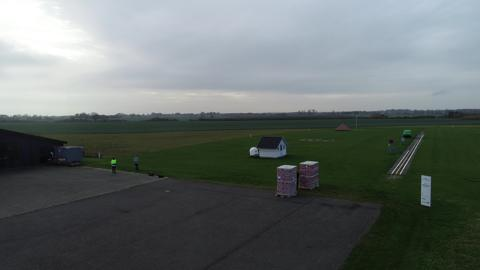RockwoolPallet: (299, 160, 318, 188)
